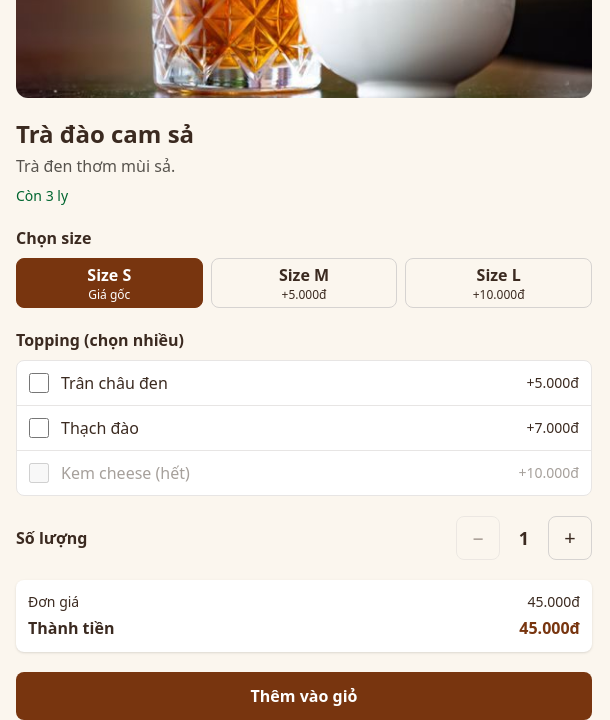
Số ly còn theo size, topping đang chọn (CT-84) › CT-84: đổi size, topping thì gọi POST /products/availability, hiện số ly còn mới, số lượng tự hạ cho vừa; lựa chọn không đủ nguyên liệu thì báo và không thêm đư
(page scrolled)
Expected: the heading "Trà đào cam sả" is shown, [16,117,194,150]
Expected: the text "Còn 3 ly" is shown, [16,186,68,205]
Note: Size S chọn 3 ly rồi đổi sang L: còn 1 ly, số lượng tự hạ về 1
Click the button named "Tăng số lượng" at (570, 538), box [548,516,592,560]
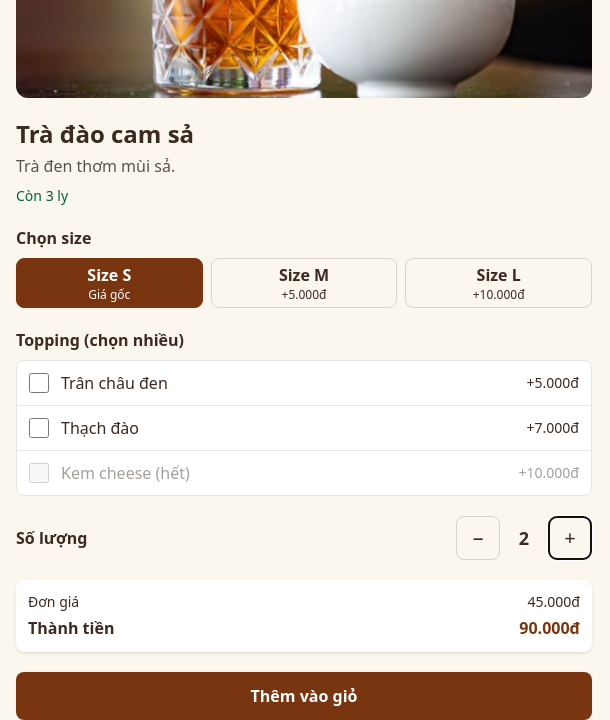
Click the button named "Tăng số lượng" at (570, 538), box [548,516,592,560]
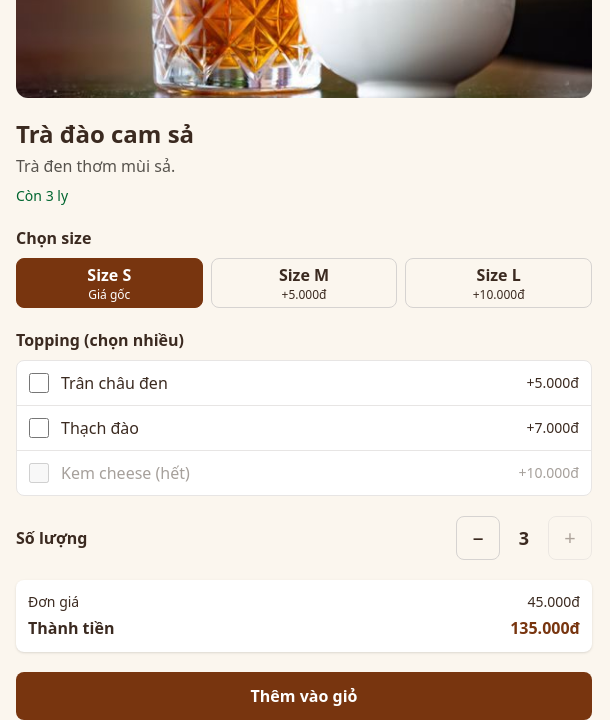
Click the radio button labelled "Size L +10.000đ" at (499, 283), box [405,258,592,308]
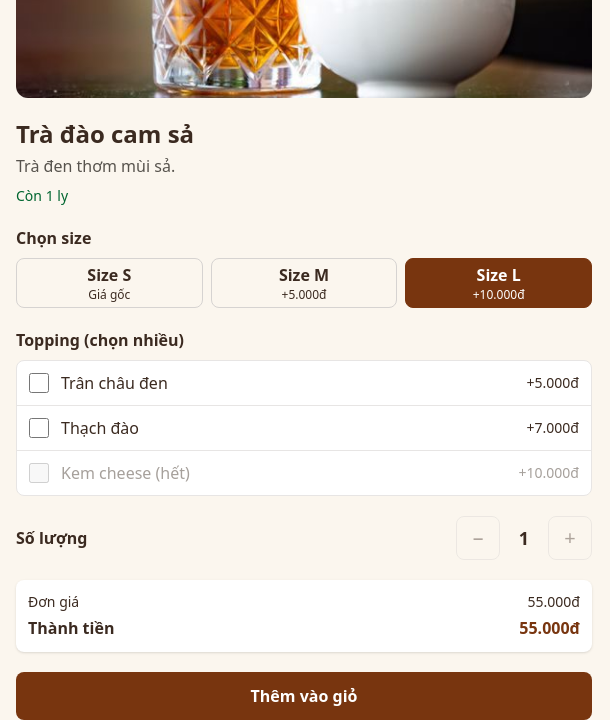
Result: the button named "Tăng số lượng" is disabled at [548,516,592,560]
Result: the text "Còn 1 ly" is shown at [16,186,68,205]
Result: the text "55.000đ" in the row of "Đơn giá" is shown at [528,592,580,611]
Note: Thêm topping mà kho không đủ: báo, khóa nút Thêm vào giỏ
Click the checkbox labelled "Trân châu đen +5.000đ" at (39, 383), box [29,373,49,393]
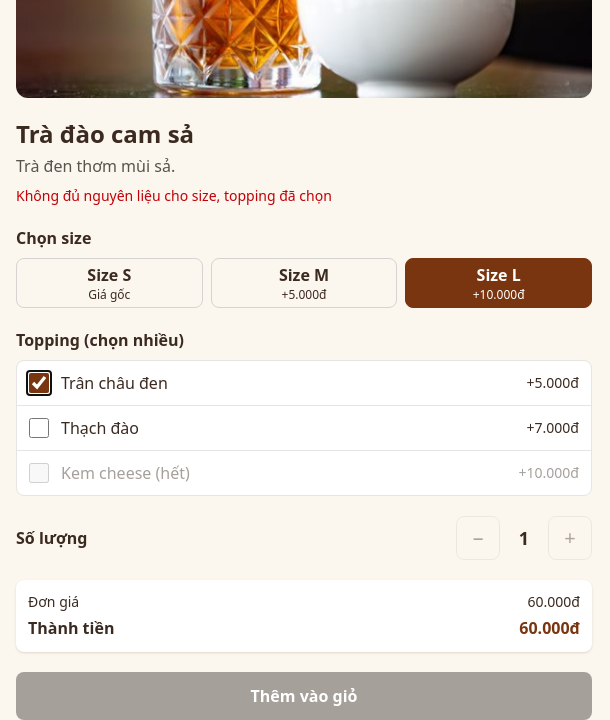
Result: the text "Không đủ nguyên liệu cho size, topping đã chọn" is shown at [16,186,332,205]
Result: the button "Thêm vào giỏ" is disabled at [16,672,592,719]
Click the checkbox labelled "Trân châu đen +5.000đ" at (39, 383), box [29,373,49,393]
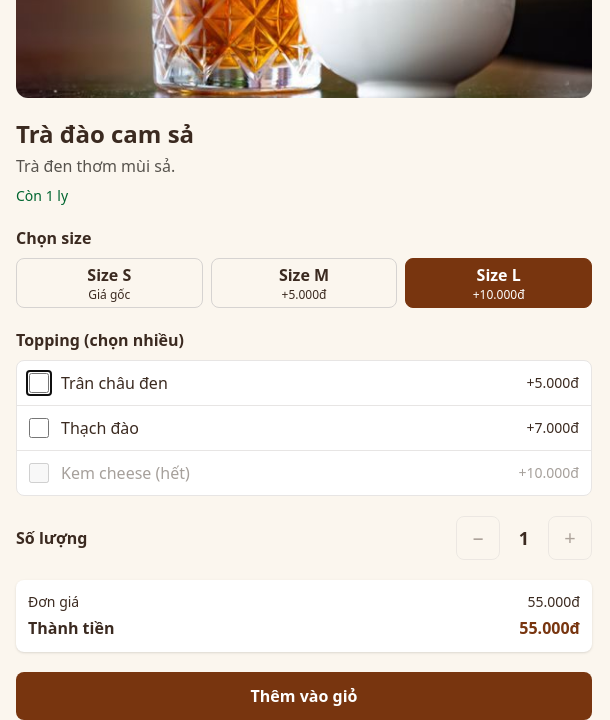
Click the radio button labelled "Size M +5.000đ" at (304, 283), box [211,258,397,308]
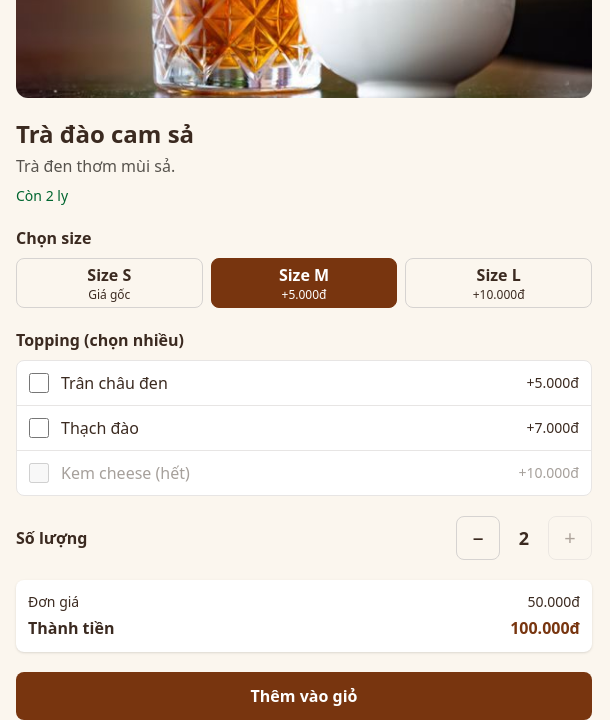
Result: the button "Thêm vào giỏ" is enabled at [16,672,592,719]
Result: the text "Còn 2 ly" is shown at [16,186,68,205]
